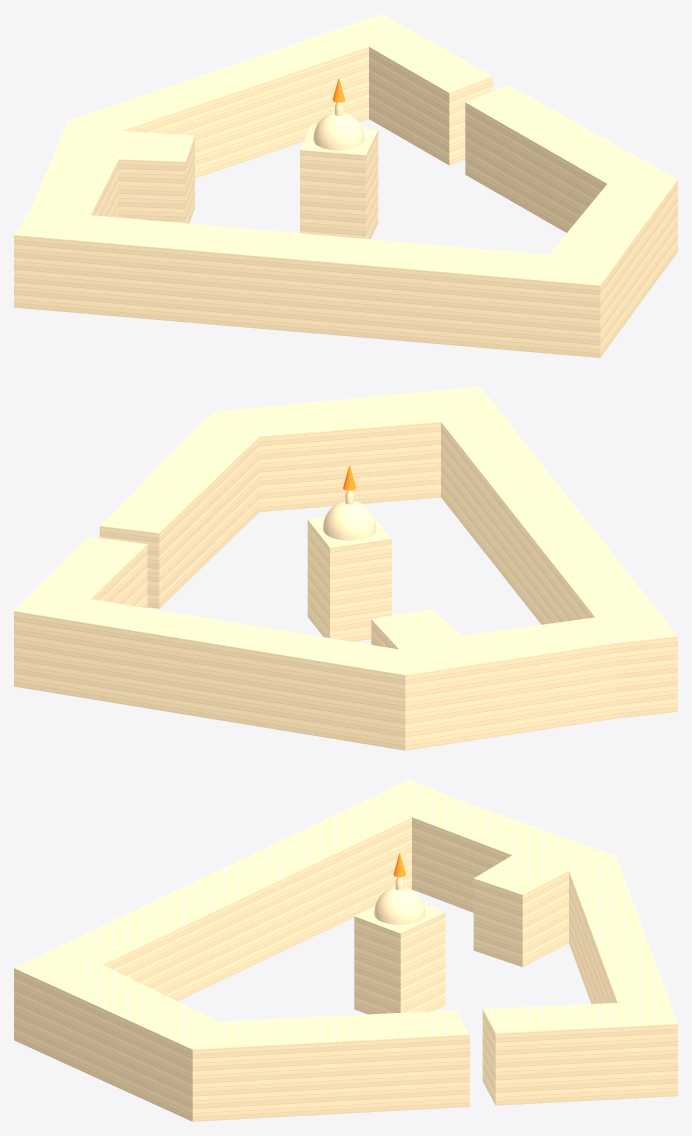
File: landmark-ateshgah.glb
The picture shows the model from 3 angles, top to bottom: view 1: azimuth 30°, elevation 25°; view 2: azimuth 150°, elevation 25°; view 3: azimuth 270°, elevation 25°; orthographic projection. The views are drawn at different scales.
Visible parts, largest first — view 1: ateshgah; view 2: ateshgah; view 3: ateshgah.
Boxes of the visible parts, x1,y1,x2,y2 form: ateshgah: (14, 14, 677, 357); ateshgah: (14, 386, 677, 750); ateshgah: (14, 779, 677, 1121).
Size of the model in its own units: 55.43 by 14.68 by 57.55.
Materials: 3 (1 with a texture image).
